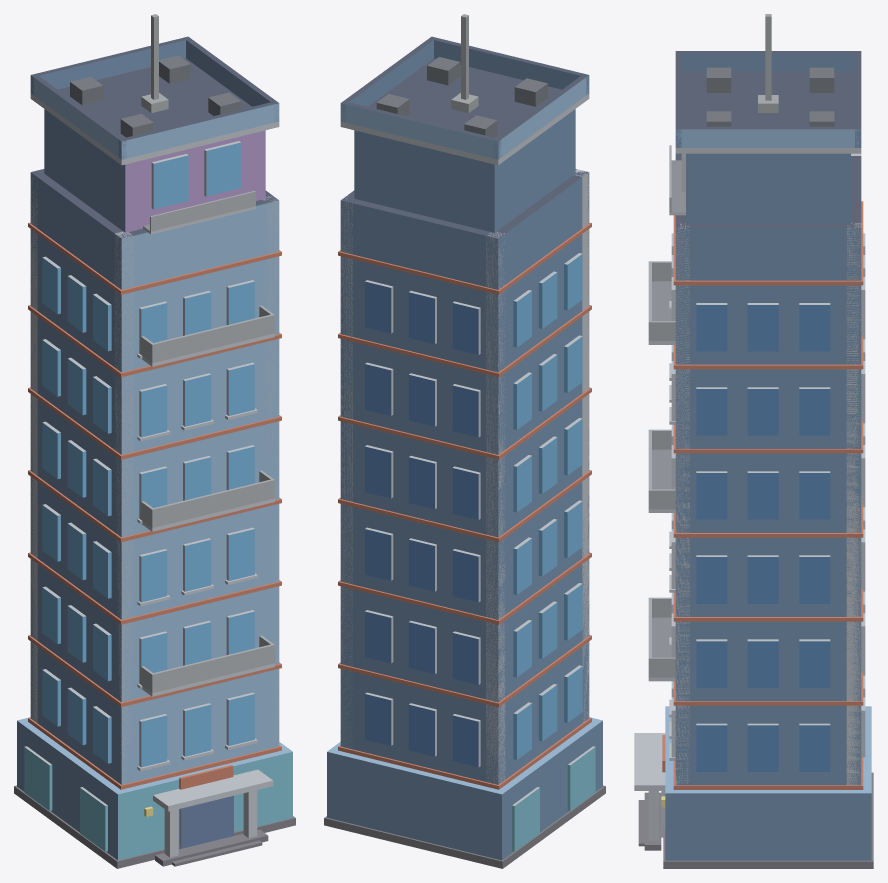
The model's file is Tower.fbx.
The picture shows the model from 3 angles, left to right: view 1: azimuth 30°, elevation 25°; view 2: azimuth 150°, elevation 25°; view 3: azimuth 270°, elevation 25°; orthographic projection.
Visible parts, largest first — view 1: Tower; view 2: Tower; view 3: Tower.
Boxes of the visible parts, left/top/right/bottom form: Tower: left=14, top=14, right=295, bottom=868; Tower: left=324, top=14, right=605, bottom=868; Tower: left=634, top=14, right=873, bottom=868.
Size of the model in its own units: 1025 by 4330 by 1160.
